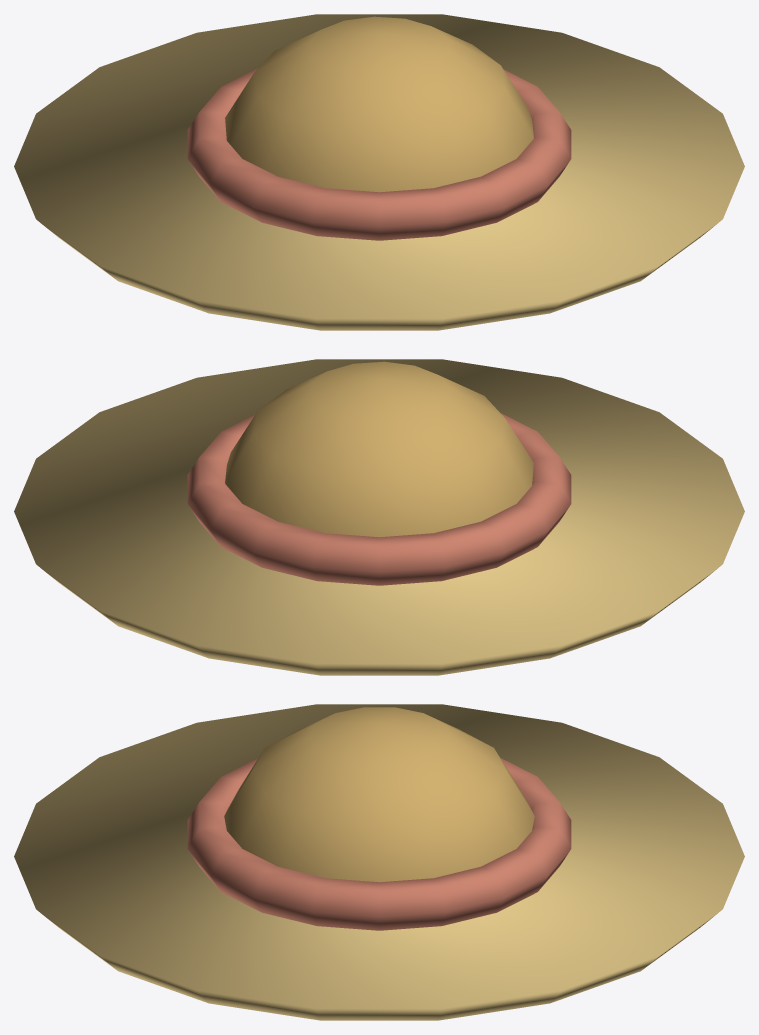
File: xy_acc_strawhat.glb
3 renders of one model, top to bottom at view 1: azimuth 30°, elevation 25°; view 2: azimuth 150°, elevation 25°; view 3: azimuth 270°, elevation 25°, orthographic.
Parts seen in each view (by area): view 1: xy_acc_strawhat; view 2: xy_acc_strawhat; view 3: xy_acc_strawhat.
Boxes of the visible parts, box(x1,y1,x2,y2) form: xy_acc_strawhat: box(14, 14, 744, 330); xy_acc_strawhat: box(14, 359, 744, 675); xy_acc_strawhat: box(14, 704, 744, 1020).
Bounding box in the file's own units: 0.8863 × 0.34 × 0.9.
